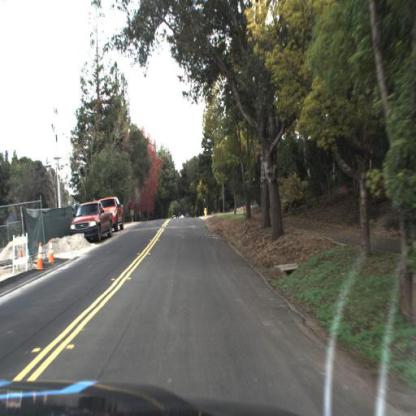car: (69, 200, 113, 243), (103, 196, 128, 233)
